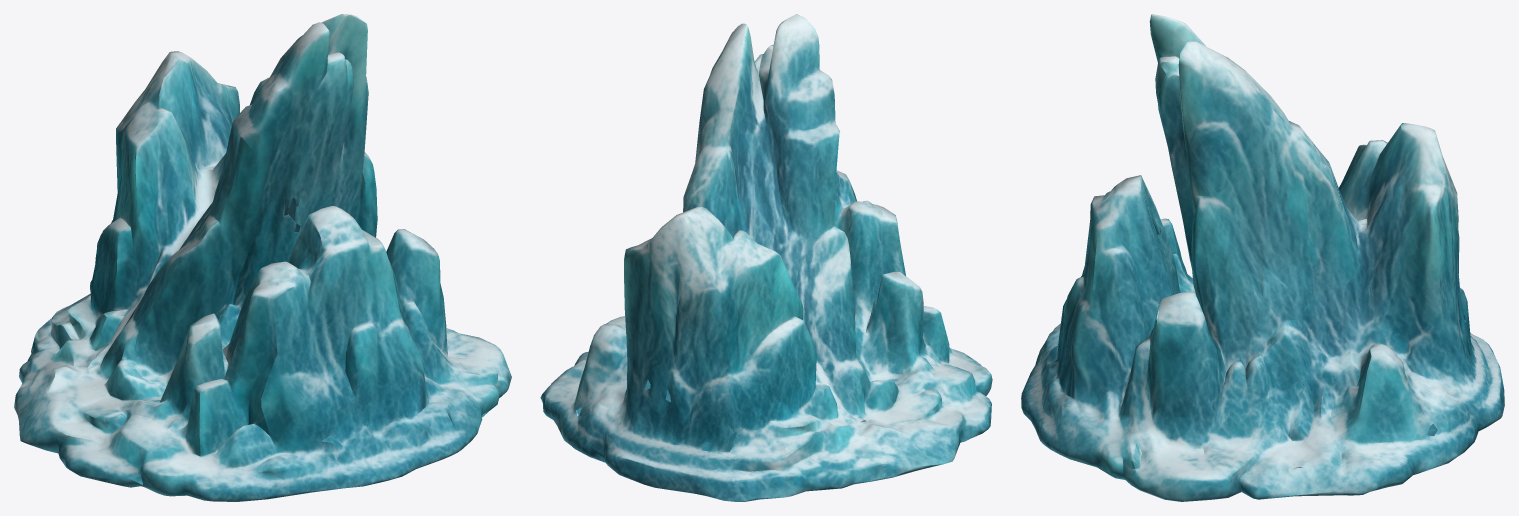
3 renders of one model, left to right at view 1: azimuth 30°, elevation 25°; view 2: azimuth 150°, elevation 25°; view 3: azimuth 270°, elevation 25°, orthographic. The views are drawn at different scales.
Parts seen in each view (by area): view 1: glacier-spires; view 2: glacier-spires; view 3: glacier-spires.
Part boxes in pixels (<box>): glacier-spires: <box>14,14,511,501</box>; glacier-spires: <box>540,14,992,501</box>; glacier-spires: <box>1021,14,1504,501</box>.
Size of the model in its own units: 14.7 by 12.99 by 14.39.
1 material, 1 textured.
